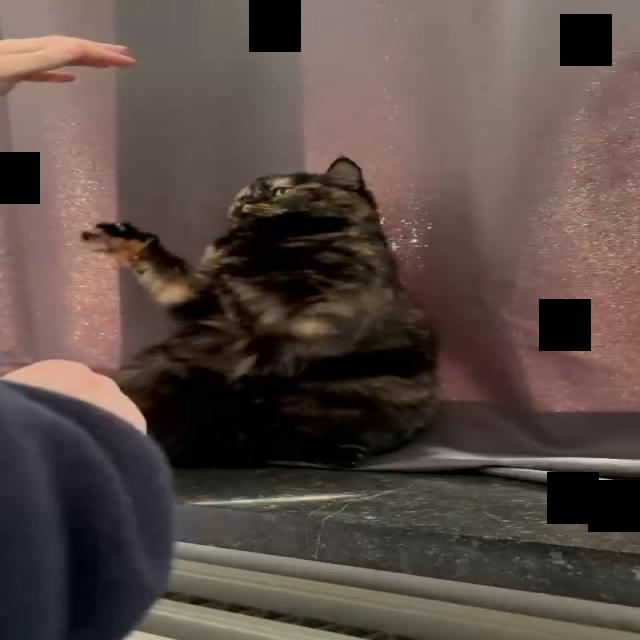authorized: (80, 154, 441, 468)
